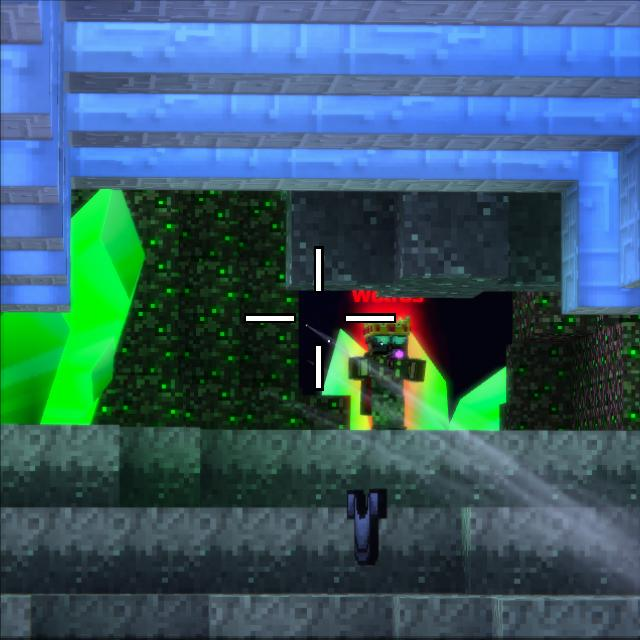Enemy: (348, 316, 426, 430)
